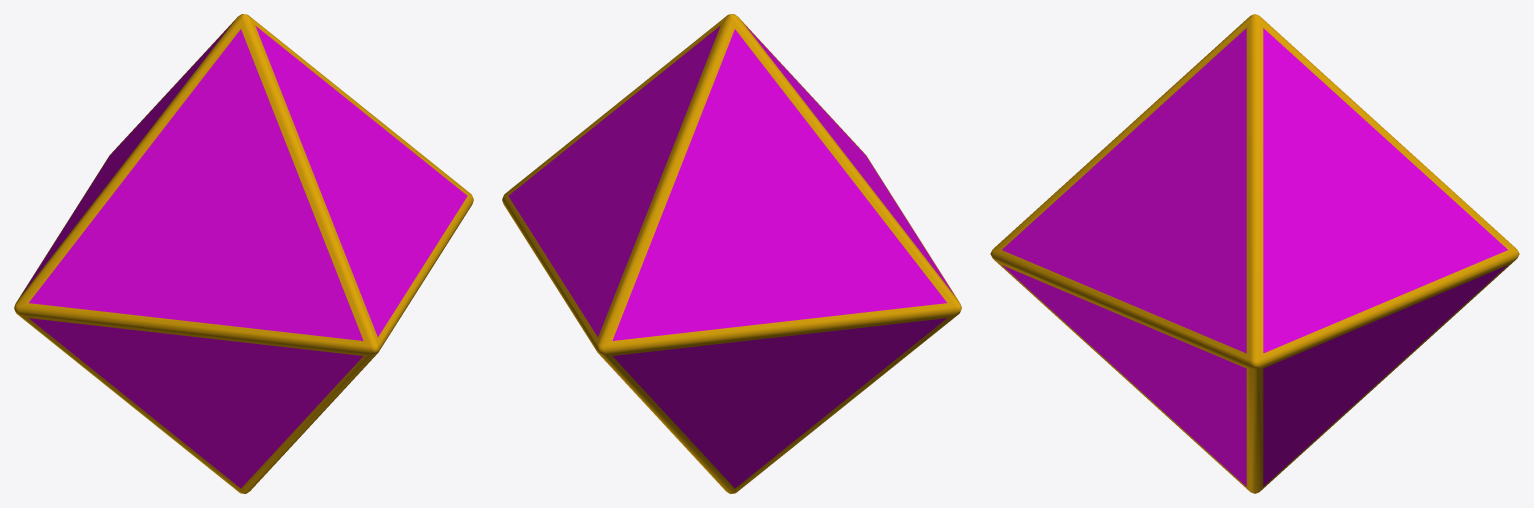
The model's file is prp_D8.fbx.
3 renders of one model, left to right at view 1: azimuth 30°, elevation 25°; view 2: azimuth 150°, elevation 25°; view 3: azimuth 270°, elevation 25°, orthographic.
Parts seen in each view (by area): view 1: prp_D8; view 2: prp_D8; view 3: prp_D8.
Part boxes in pixels (bbox=[...]): prp_D8: bbox=[14, 14, 473, 493]; prp_D8: bbox=[502, 14, 961, 493]; prp_D8: bbox=[990, 14, 1519, 493].
Bounding box in the file's own units: 0.9232 × 0.9232 × 0.9232.
